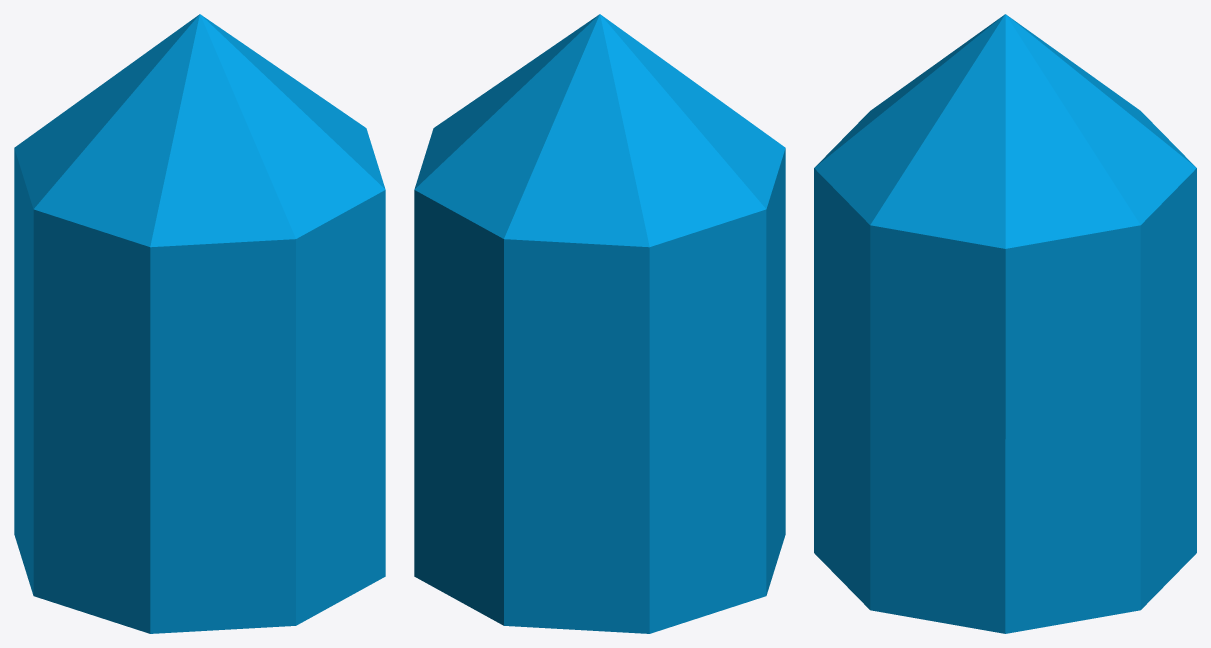
File: crystal_pillar.fbx
The picture shows the model from 3 angles, left to right: view 1: azimuth 30°, elevation 25°; view 2: azimuth 150°, elevation 25°; view 3: azimuth 270°, elevation 25°; orthographic projection.
Parts seen in each view (by area): view 1: crystal.pillar; view 2: crystal.pillar; view 3: crystal.pillar.
Boxes of the visible parts, box(x1,y1,x2,y2) form: crystal.pillar: box(14, 14, 385, 633); crystal.pillar: box(414, 14, 785, 633); crystal.pillar: box(814, 14, 1196, 633).
Size of the model in its own units: 90.08 by 140 by 90.08.
